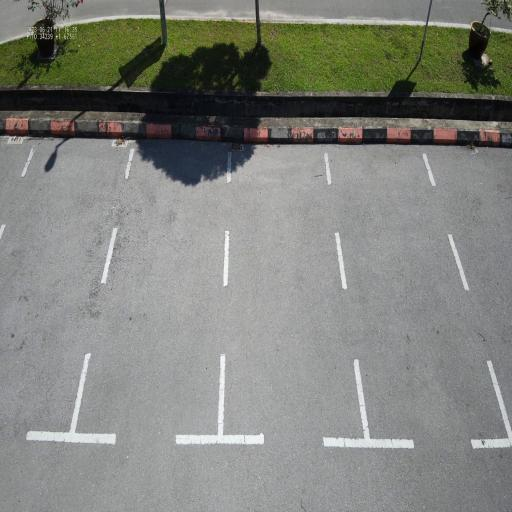Empty: (66, 124, 239, 454), (216, 128, 374, 452)
